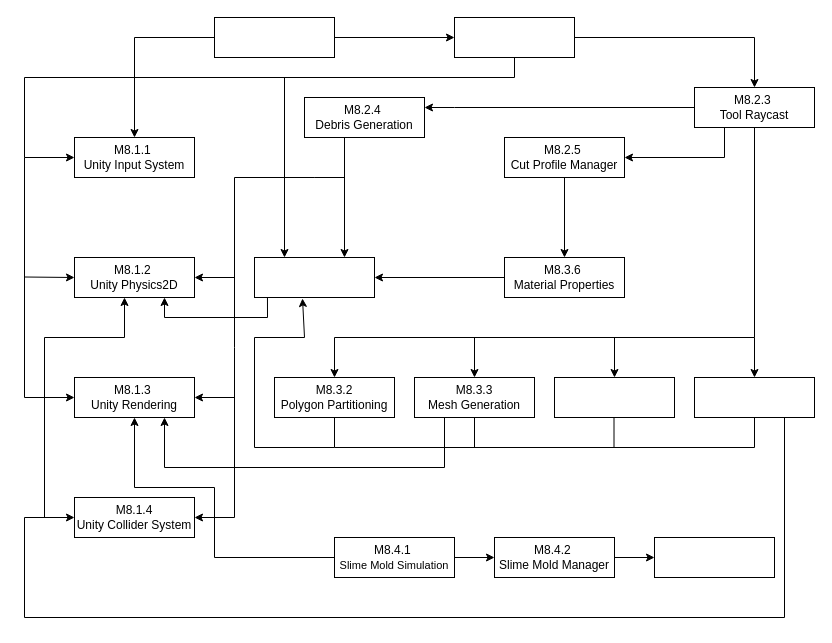
This 832x643 diagram has some shape labels left out. Each missing label, with the centre of its shape:
"M8.2.1 Player Controller" belongs at pixel 274 37.
"M8.2.2 Raycast Visualization" belongs at pixel 514 37.
"M8.3.1 Geometric Operations" belongs at pixel 314 277.
"M8.3.4 Pixelation Module" belongs at pixel 614 397.
"M8.3.5 Physics Update" belongs at pixel 754 397.
"M8.4.3 Attraction Source" belongs at pixel 714 557.
